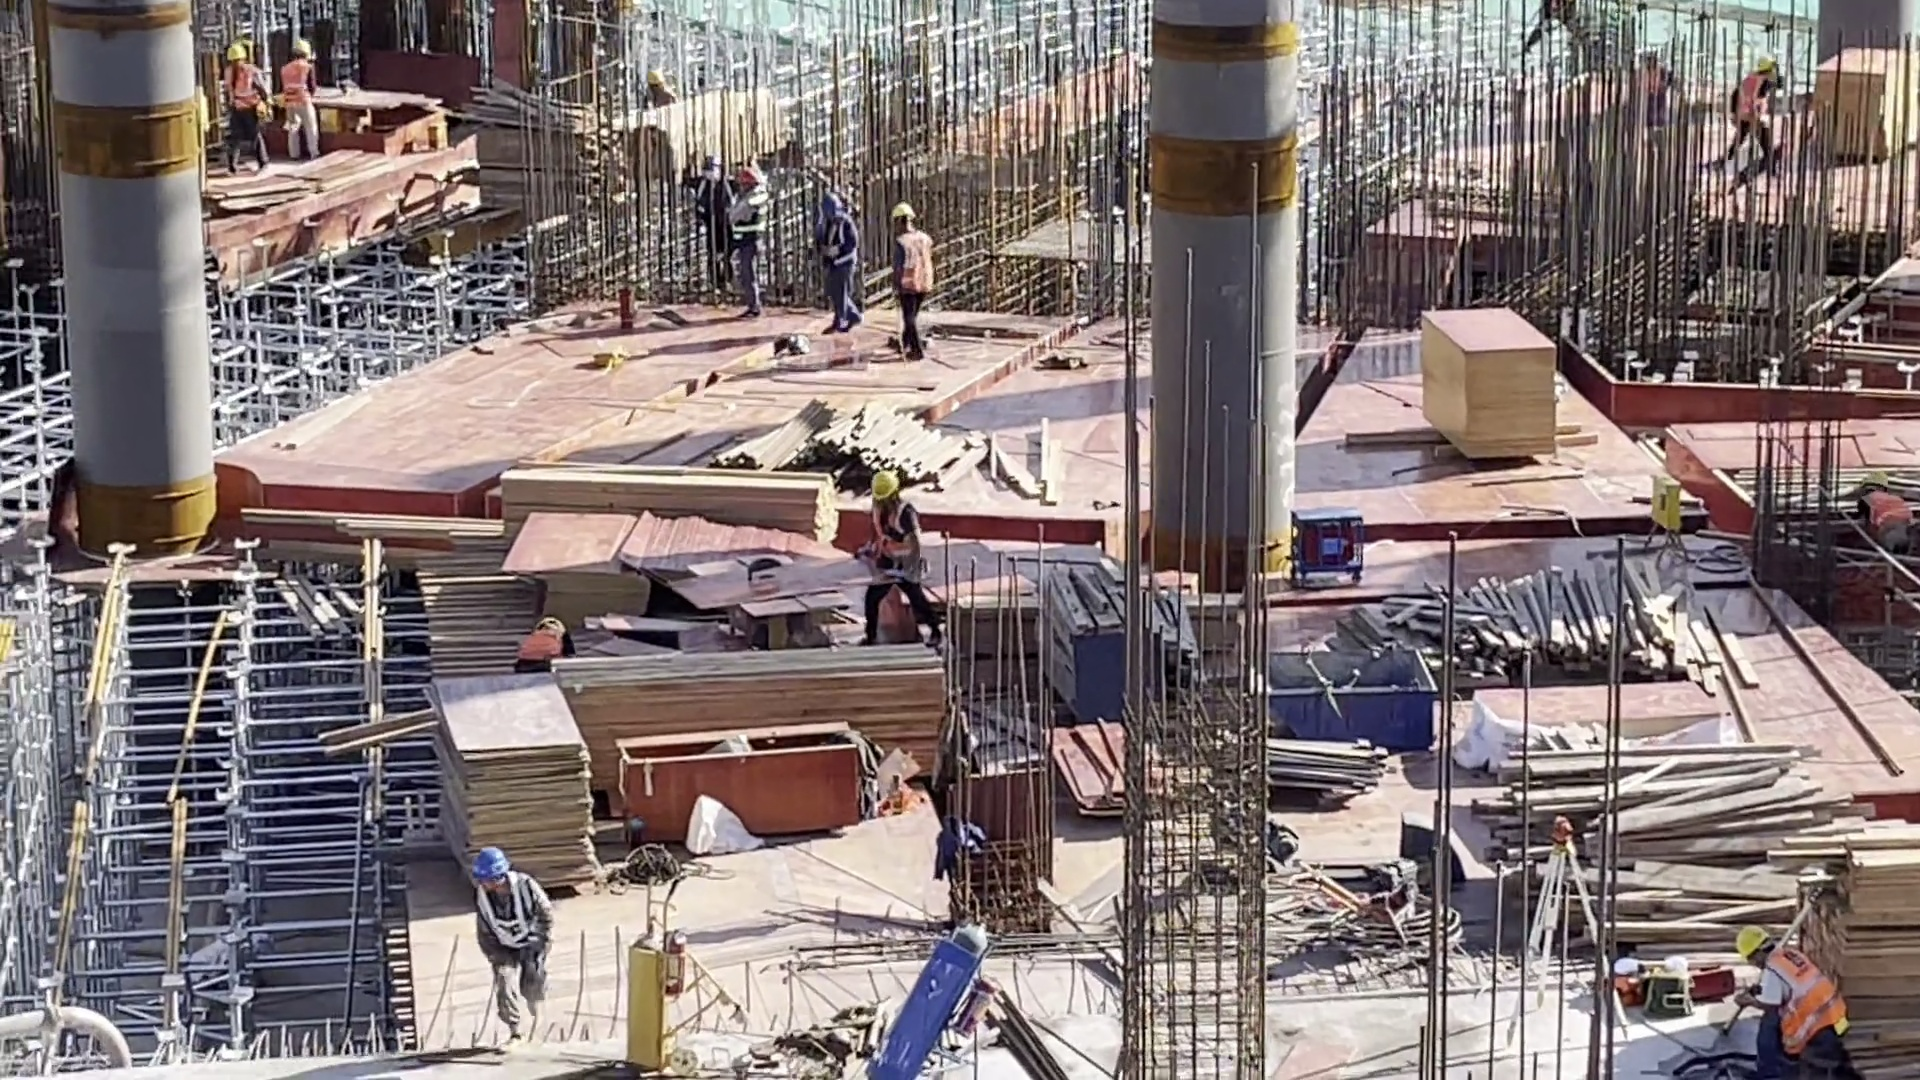helmet: (1733, 921, 1770, 958), (475, 849, 510, 878), (870, 472, 904, 501), (817, 190, 845, 215), (891, 203, 916, 226), (733, 166, 763, 185), (223, 42, 248, 61), (698, 159, 722, 176), (290, 42, 311, 57)
person: (1735, 922, 1848, 1080), (475, 847, 552, 1057), (856, 471, 933, 648), (887, 201, 935, 364), (812, 187, 863, 337), (1725, 53, 1788, 170), (676, 158, 725, 300), (728, 165, 770, 318), (271, 42, 319, 159), (223, 42, 262, 174), (1862, 476, 1920, 544), (510, 616, 575, 677), (630, 69, 676, 109)
vest: (1759, 948, 1838, 1054), (475, 874, 537, 966), (869, 504, 924, 587), (893, 233, 932, 301), (514, 636, 565, 678), (817, 214, 855, 266), (734, 189, 768, 240), (223, 66, 259, 110), (694, 174, 725, 221), (280, 59, 312, 103)
